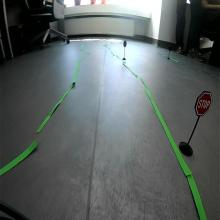stop: (194, 90, 214, 115)
